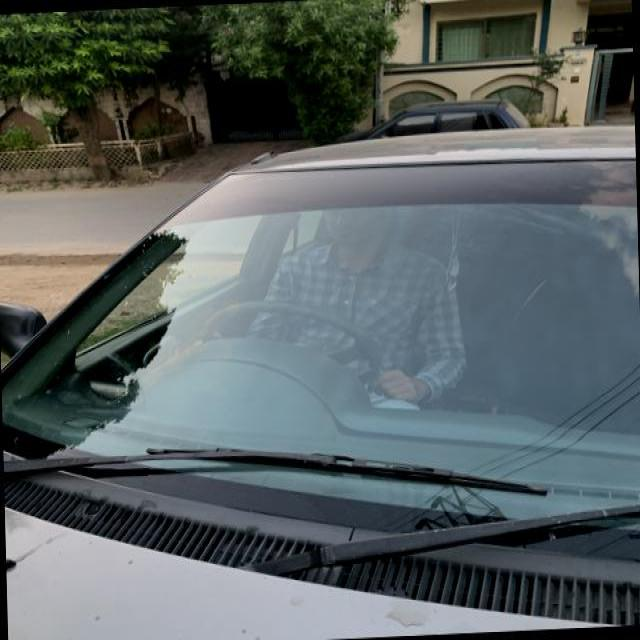no-seatbelt: (270, 250, 465, 412)
